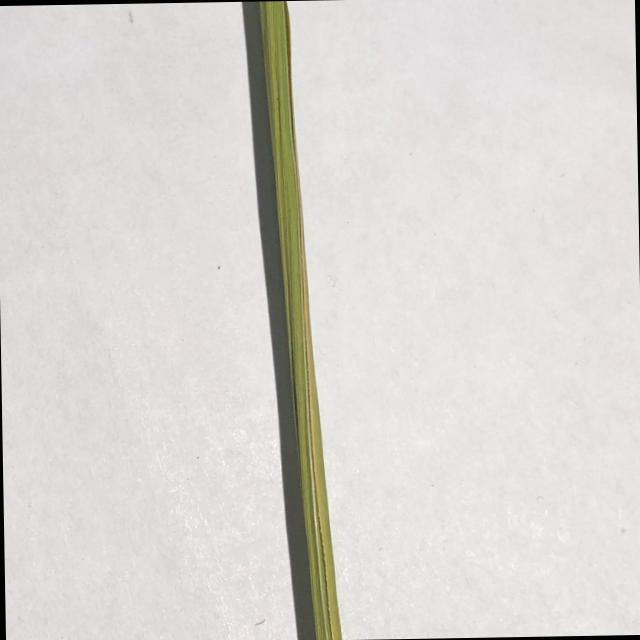Rice_Healthy: (259, 1, 342, 640)
